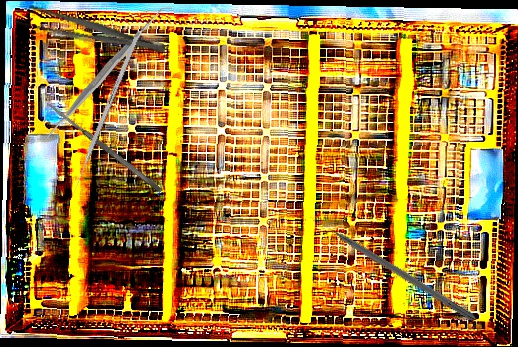Dressing Forceps: (14, 1, 168, 61)
Pusher: (308, 211, 478, 323), (70, 35, 140, 195)
Spatula Surgical: (36, 2, 173, 145), (46, 101, 164, 194)
